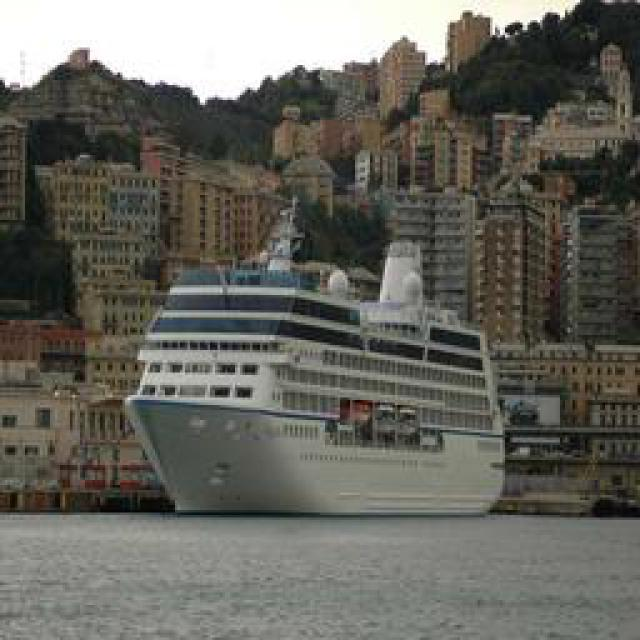Ship: (126, 259, 509, 519)
